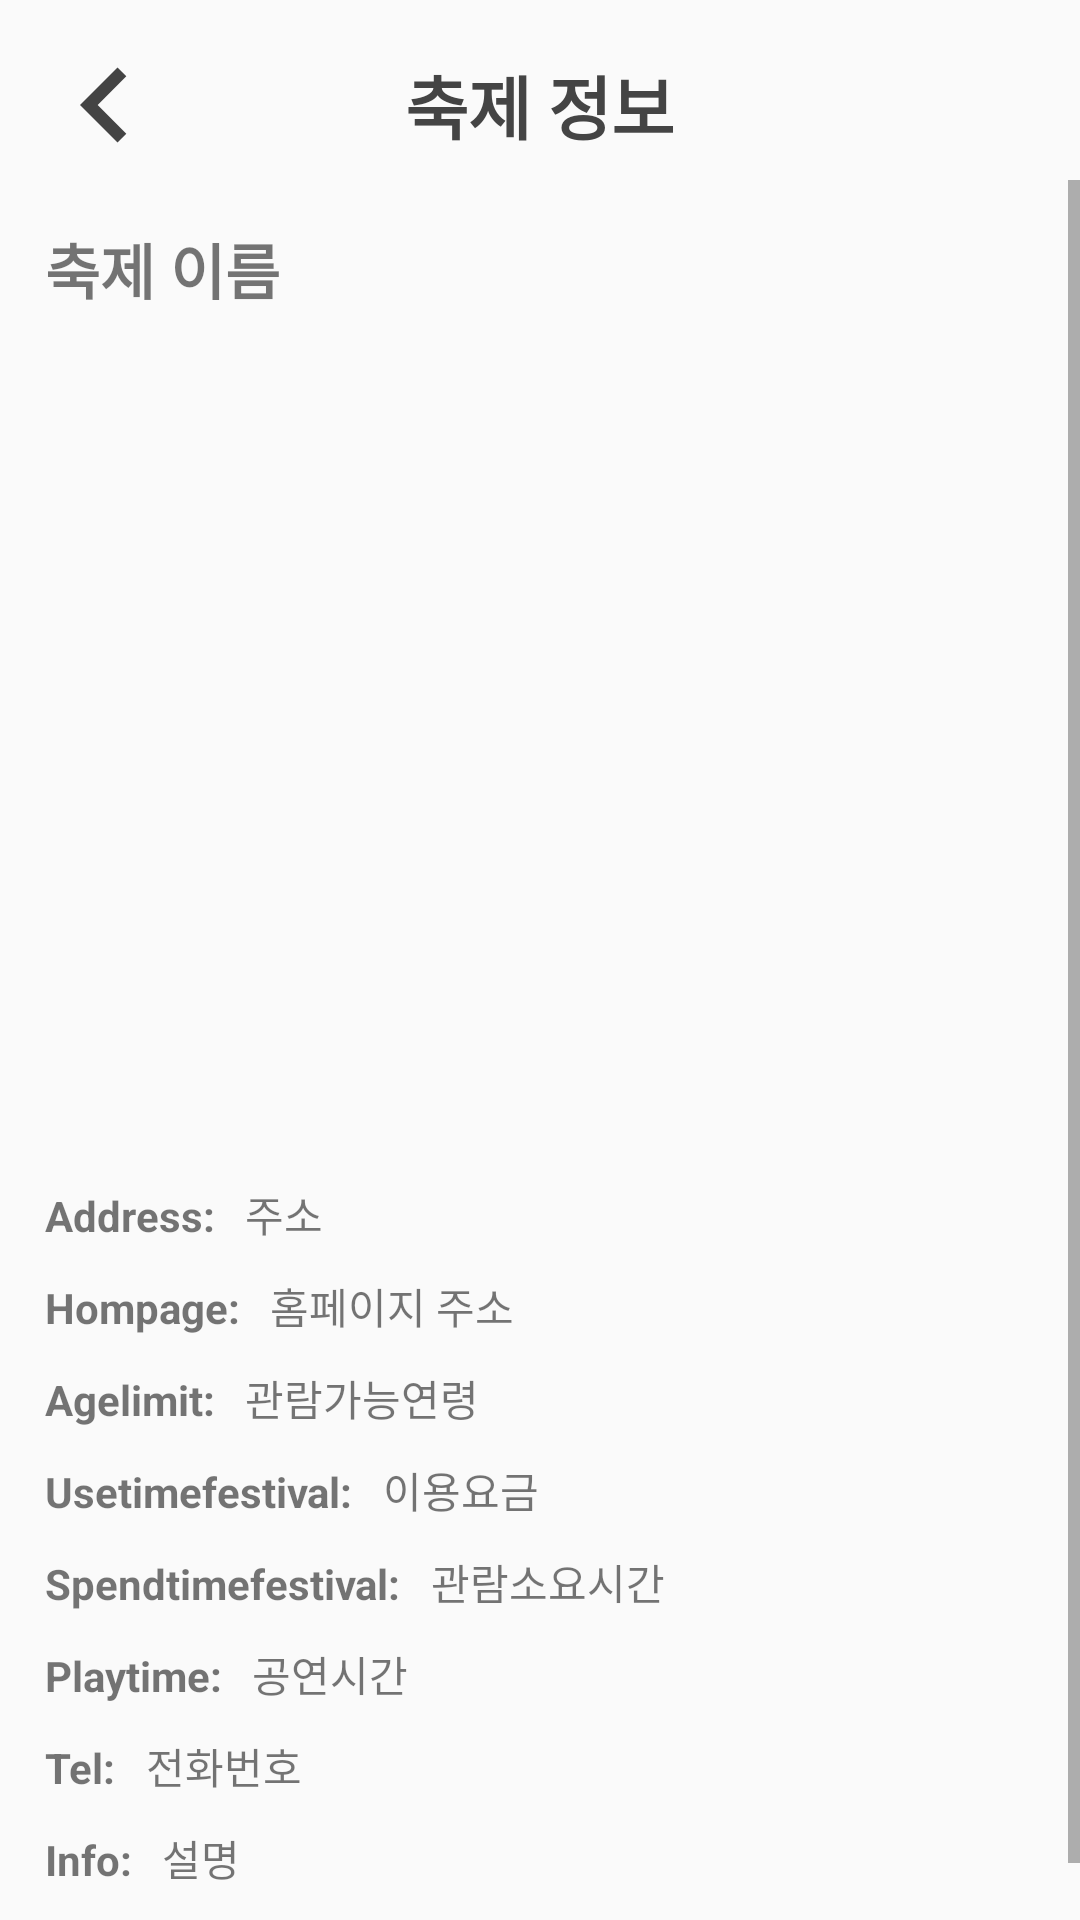

Named icons in this screenshot (1080*1920) and their centers, point (x, y):
backbutton: point (103, 105)
